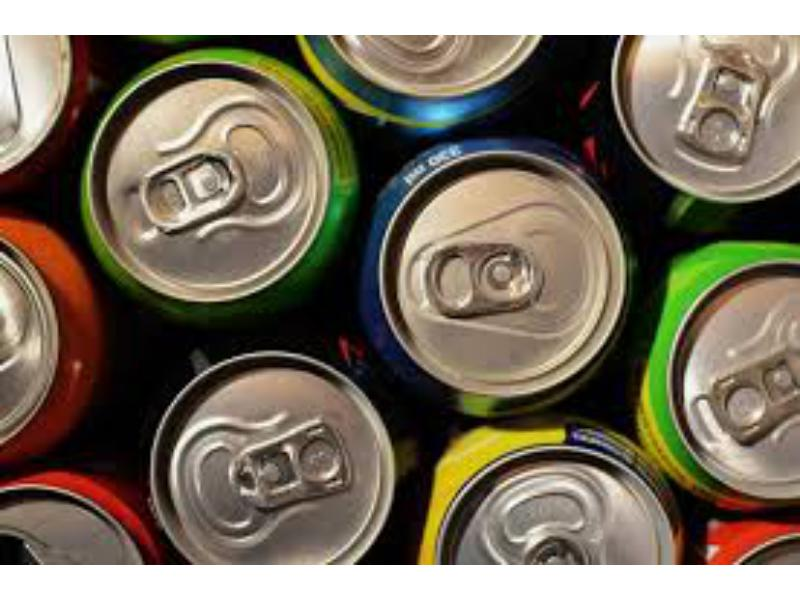can: (75, 49, 352, 315), (374, 138, 636, 385), (143, 345, 399, 559), (422, 423, 686, 569), (663, 246, 798, 502), (608, 36, 800, 204), (1, 216, 68, 454), (309, 34, 551, 97)
